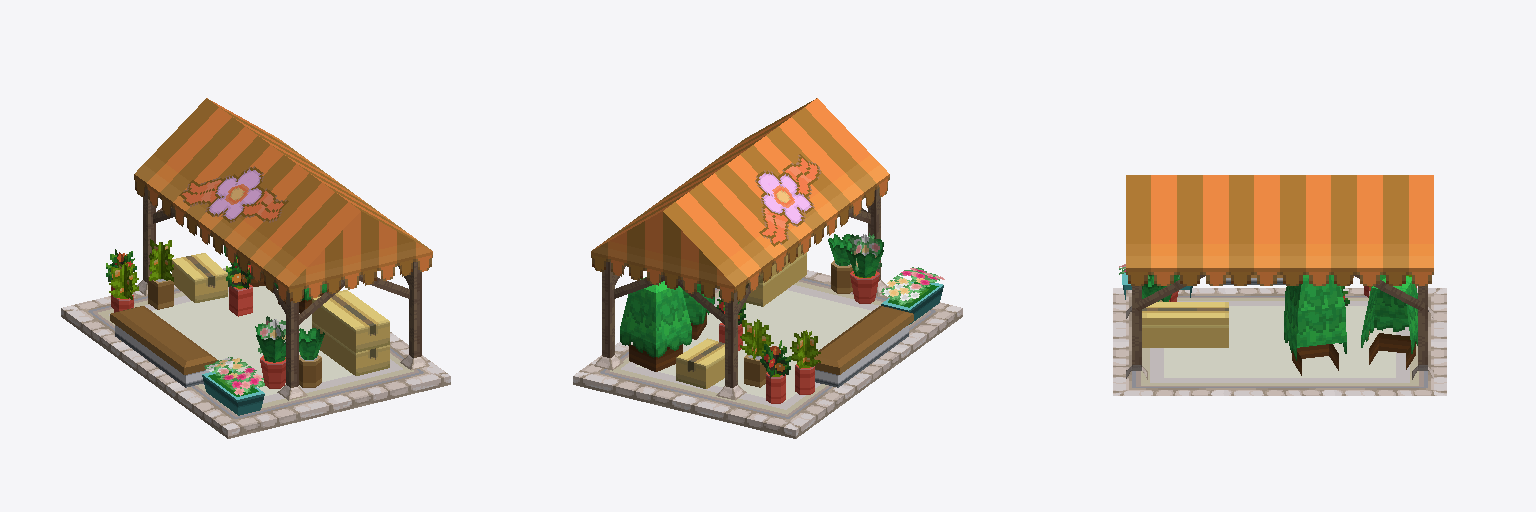
The picture shows the model from 3 angles: view 1: azimuth 30°, elevation 25°; view 2: azimuth 150°, elevation 25°; view 3: azimuth 270°, elevation 25°; orthographic projection.
Visible parts, largest first — view 1: polygon0, polygon2; view 2: polygon0, polygon2; view 3: polygon0.
Part boxes in pixels (x1,y1,x2,y2): polygon0: (61,98,450,438); polygon2: (179,166,288,222); polygon0: (573,98,962,438); polygon2: (755,154,820,246); polygon0: (1113,175,1446,395).
Size of the model in its own units: 5 by 4.06 by 6.5.
Materials: 3 (3 with a texture image).